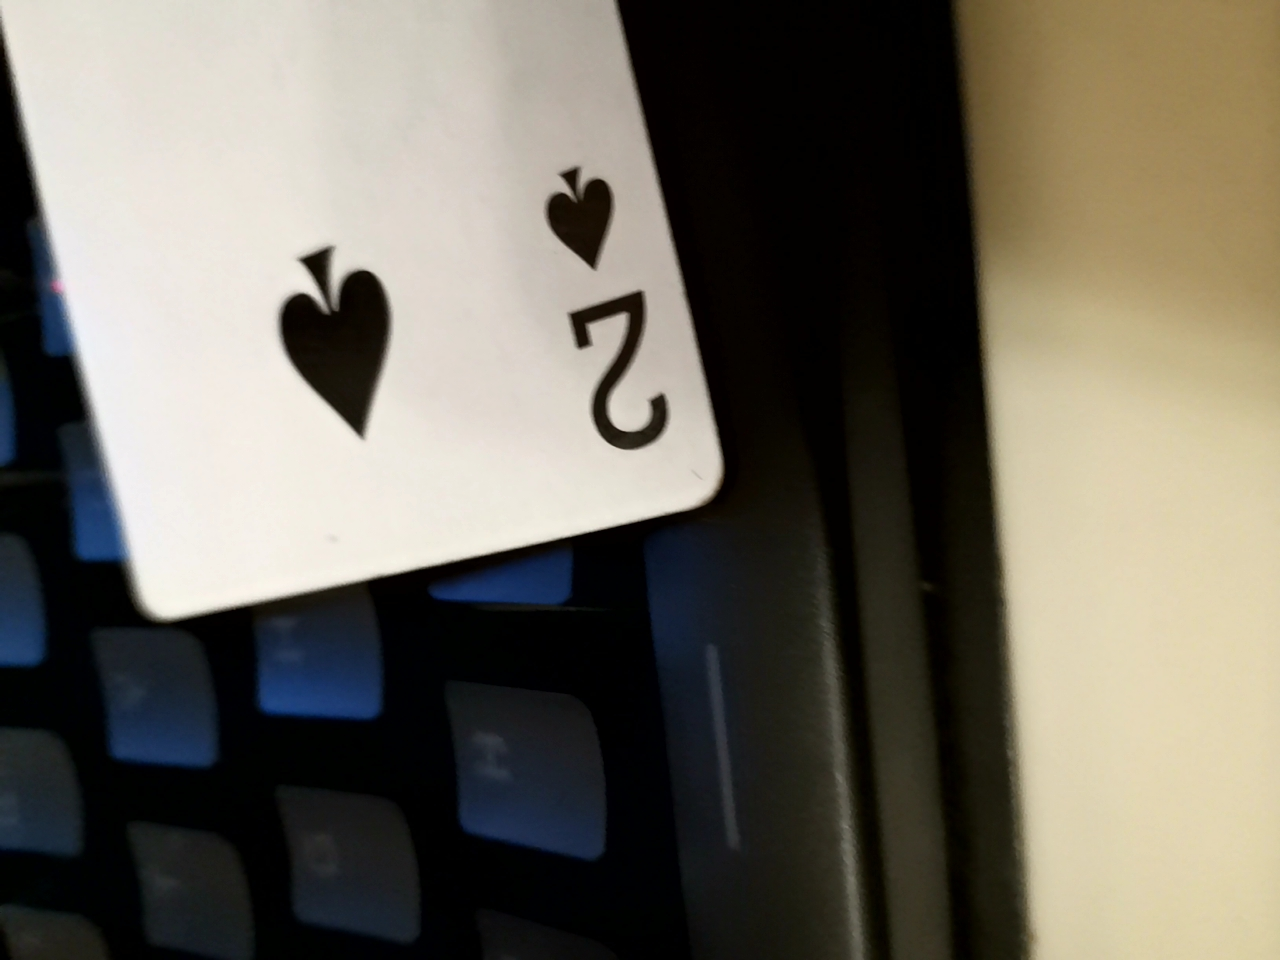ht 2: (6, 1, 757, 629)
